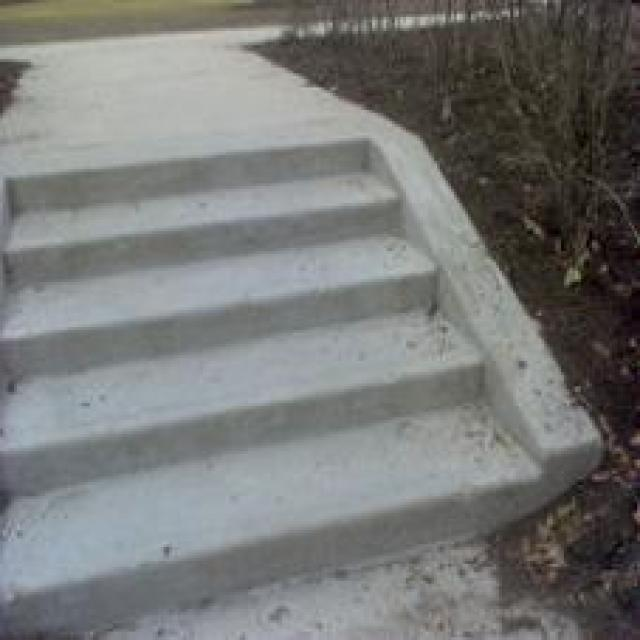upstair: (9, 173, 520, 548)
